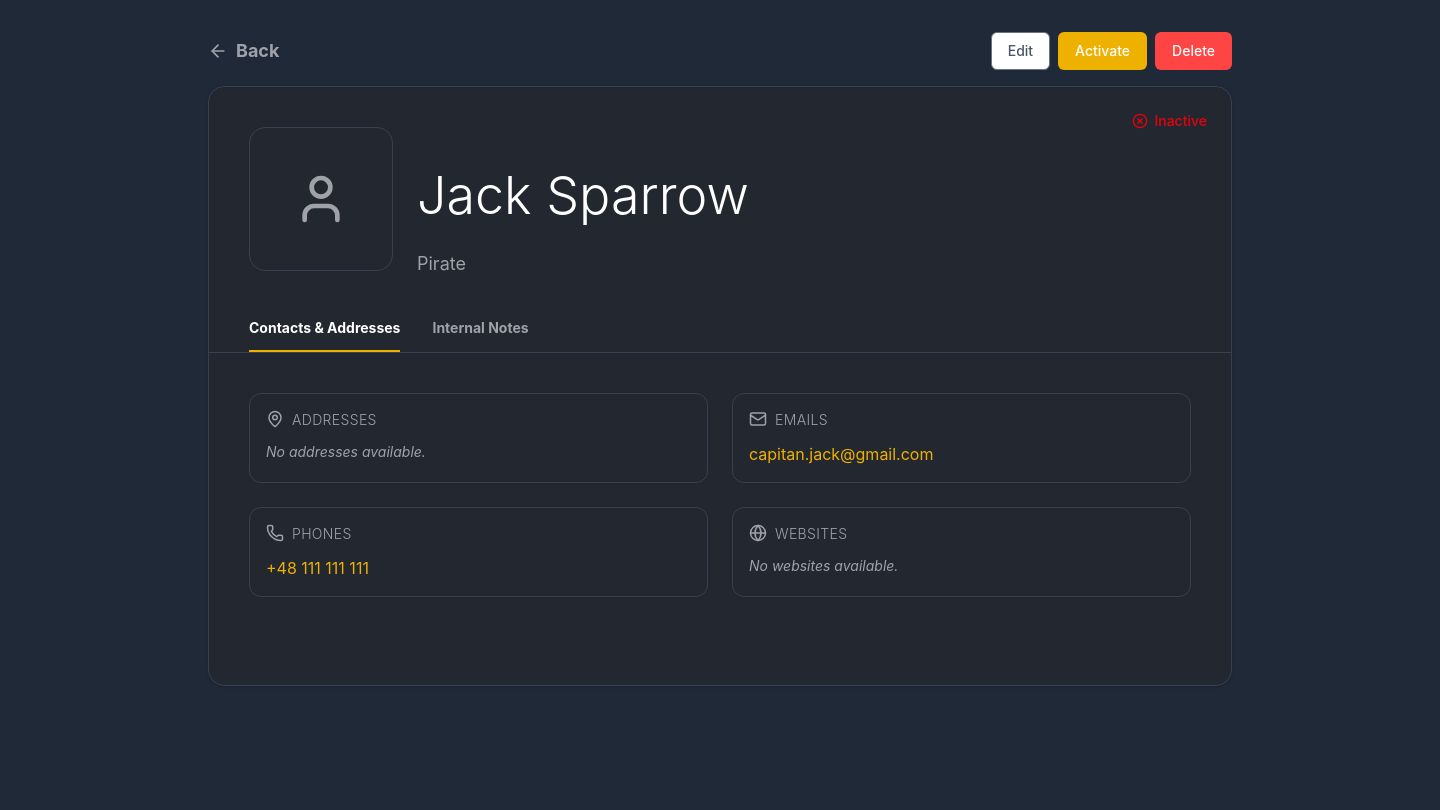
Test case: ContactDetailsPage › opens edit contact modal when Edit is clicked
What coordinates should you click on to do the following:
click the button with test id "edit-button"
I would click on:
 (1020, 51)
Its box is [991, 32, 1050, 70].
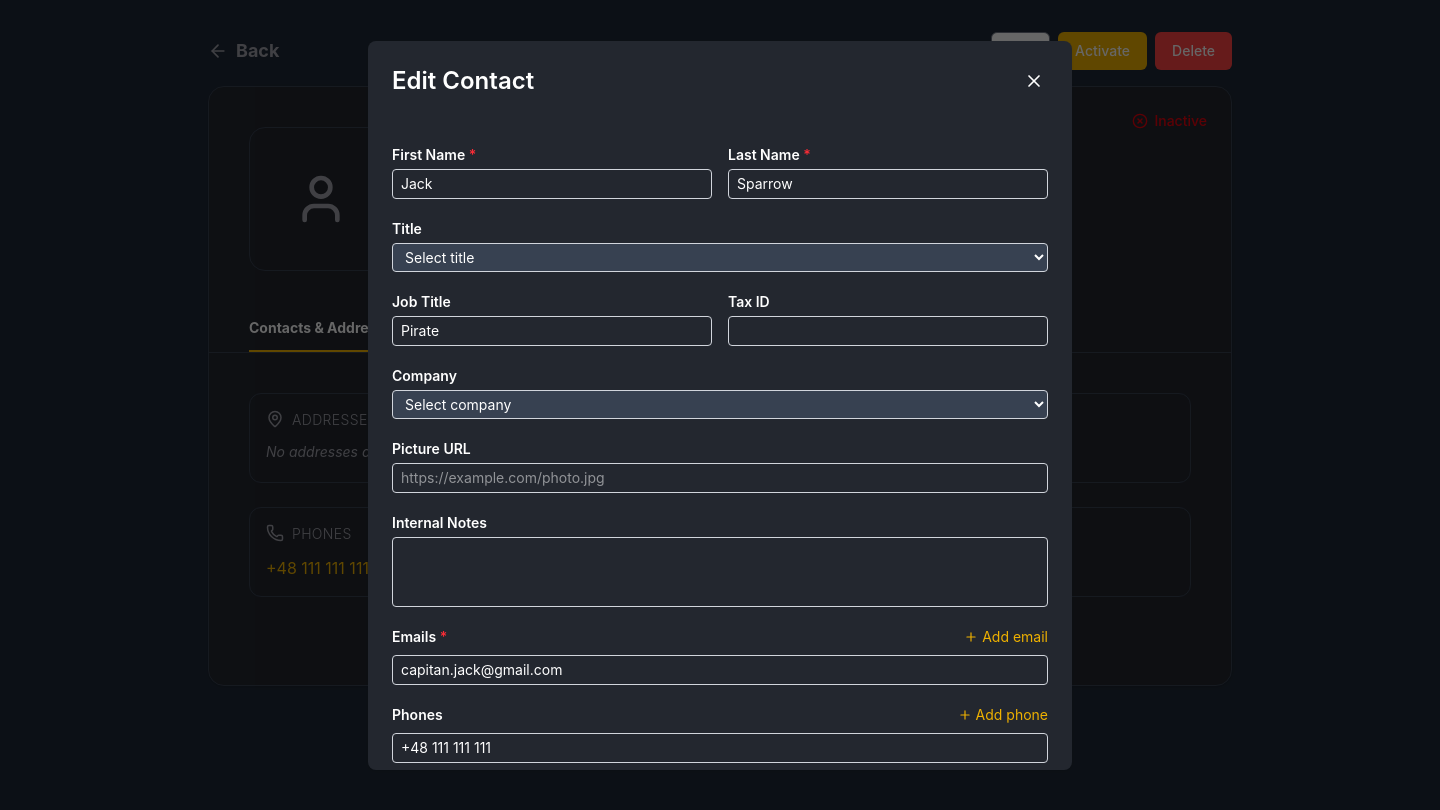
expect the dialog "Edit Contact" is shown: met, box [368, 40, 1072, 770]
expect the text "First Name" is shown: met, box [392, 146, 469, 162]
